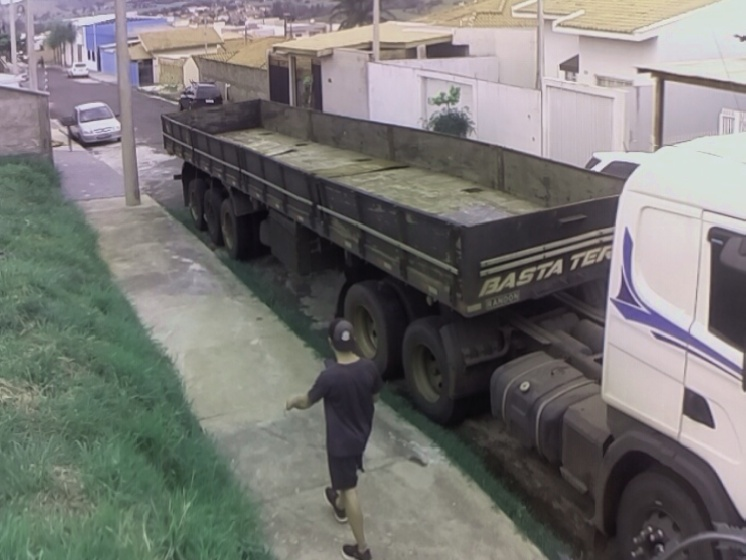person: (283, 316, 394, 560)
